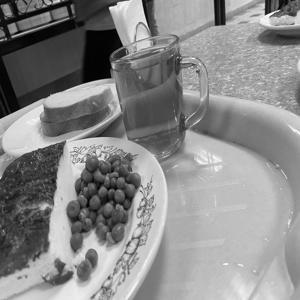bread: (33, 74, 121, 136)
casserole: (0, 126, 162, 293)
tea: (101, 34, 209, 166)
